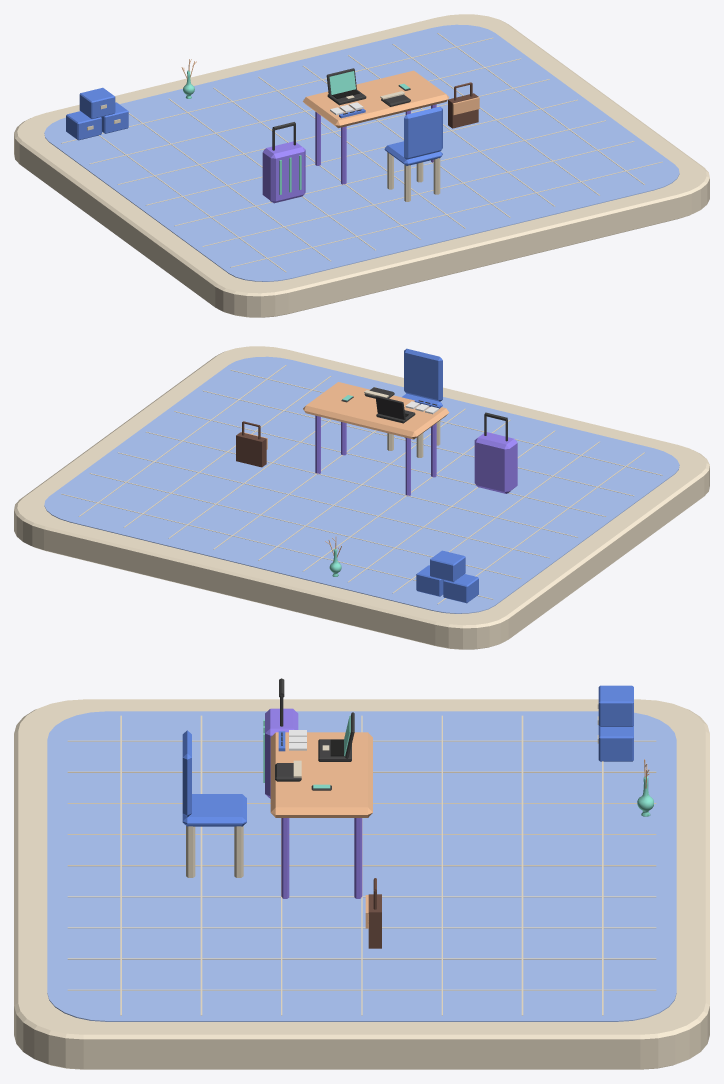
Rendered from room.fbx.
The picture shows the model from 3 angles, top to bottom: view 1: azimuth 30°, elevation 25°; view 2: azimuth 150°, elevation 25°; view 3: azimuth 270°, elevation 25°; orthographic projection. The views are drawn at different scales.
Parts seen in each view (by area): view 1: COM-02 Floor Surface, COM-01 Rounded Base Direct, Rounded table top, Shell, Backrest, Bag, Stacked case.002, Stacked case, Grout Y, Grout Y.001, Stacked case.001, Grout Y.002 (+4 smaller); view 2: COM-02 Floor Surface, COM-01 Rounded Base Direct, Rounded table top, Shell, Backrest, Bag, Stacked case.002, Stacked case, Grout Y.004, Stacked case.001, Grout Y.003, Grout Y.005 (+4 smaller); view 3: COM-02 Floor Surface, COM-01 Rounded Base Direct, Rounded table top, Seat, Stacked case.002, Stacked case.001, Grout X.008, Grout X.007, Grout X.006, Shell, Grout X.005, Grout X.004 (+8 smaller).
Boxes of the visible parts, x1=… form: COM-02 Floor Surface: x1=44, y1=24, x2=679, y2=281; COM-01 Rounded Base Direct: x1=14, y1=14, x2=709, y2=317; Rounded table top: x1=303, y1=70, x2=449, y2=128; Shell: x1=262, y1=141, x2=305, y2=203; Backrest: x1=404, y1=106, x2=442, y2=159; Bag: x1=448, y1=82, x2=479, y2=128; Stacked case.002: x1=79, y1=87, x2=115, y2=118; Stacked case: x1=66, y1=111, x2=101, y2=140; Grout Y: x1=230, y1=161, x2=662, y2=267; Grout Y.001: x1=202, y1=141, x2=634, y2=246; Stacked case.001: x1=101, y1=102, x2=128, y2=133; Grout Y.002: x1=174, y1=120, x2=605, y2=226; COM-02 Floor Surface: x1=44, y1=356, x2=679, y2=613; COM-01 Rounded Base Direct: x1=14, y1=346, x2=709, y2=649; Rounded table top: x1=303, y1=382, x2=449, y2=439; Shell: x1=474, y1=432, x2=517, y2=493; Backrest: x1=404, y1=348, x2=442, y2=401; Bag: x1=236, y1=421, x2=267, y2=467; Stacked case.002: x1=430, y1=550, x2=465, y2=581; Stacked case: x1=443, y1=574, x2=478, y2=603; Grout Y.004: x1=118, y1=452, x2=549, y2=558; Stacked case.001: x1=416, y1=565, x2=443, y2=596; Grout Y.003: x1=146, y1=431, x2=577, y2=537; Grout Y.005: x1=89, y1=473, x2=521, y2=578; COM-02 Floor Surface: x1=47, y1=711, x2=676, y2=1021; COM-01 Rounded Base Direct: x1=14, y1=699, x2=709, y2=1069; Rounded table top: x1=270, y1=732, x2=372, y2=817; Seat: x1=182, y1=794, x2=246, y2=826; Stacked case.002: x1=598, y1=685, x2=633, y2=726; Stacked case.001: x1=598, y1=726, x2=633, y2=761; Grout X.008: x1=67, y1=989, x2=656, y2=990; Grout X.007: x1=67, y1=958, x2=656, y2=959; Grout X.006: x1=67, y1=927, x2=656, y2=928; Shell: x1=265, y1=708, x2=298, y2=798; Grout X.005: x1=67, y1=896, x2=656, y2=897; Grout X.004: x1=67, y1=865, x2=656, y2=866.
Size of the model in its own units: 600 by 135 by 520.
